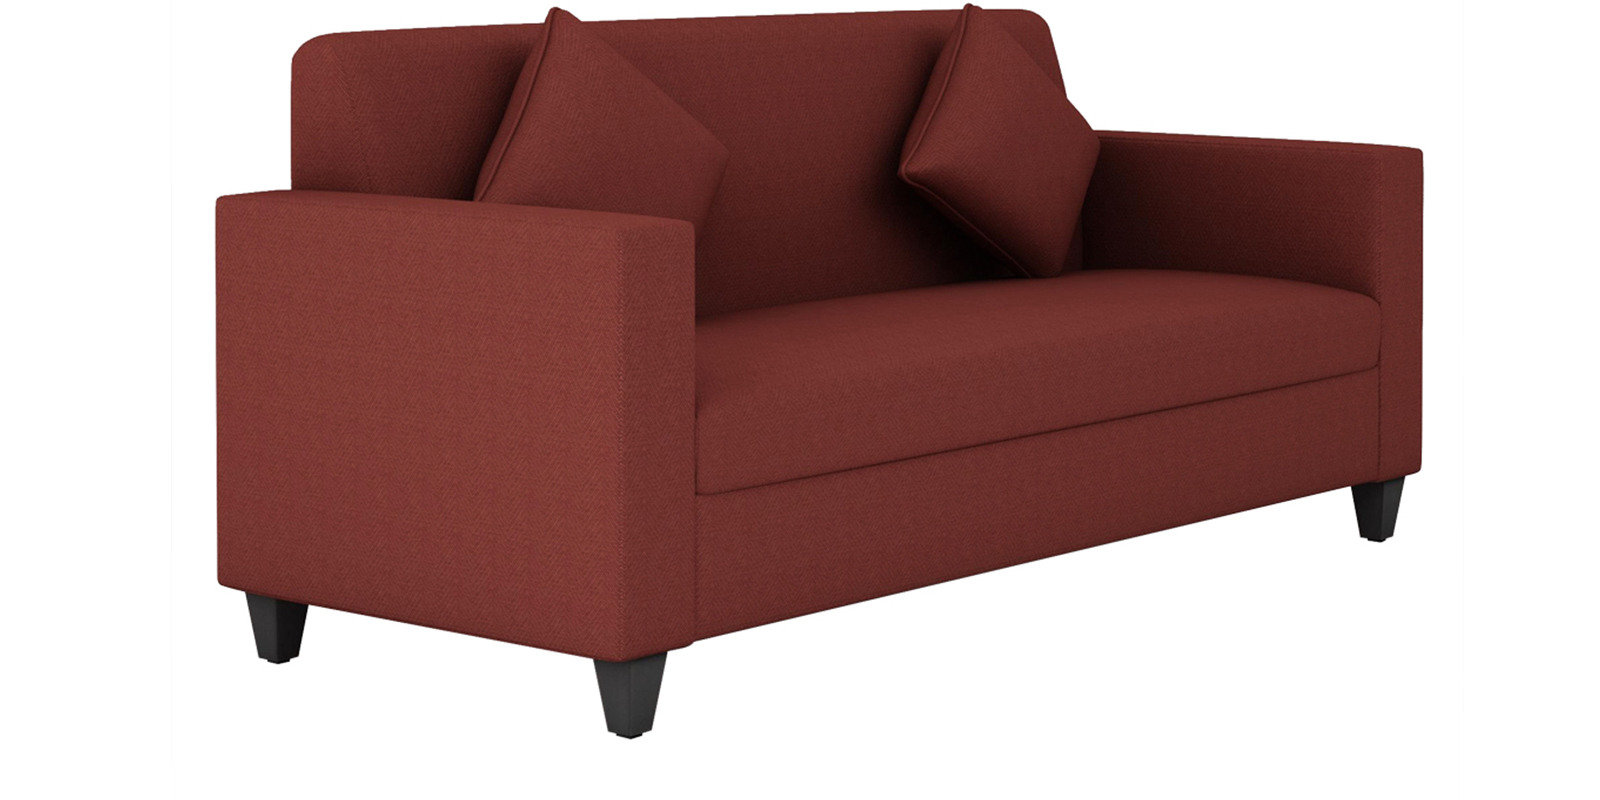Cooper Three Seater Sofa in Cherry Colour by ARRA: (177, 9, 1450, 711)
